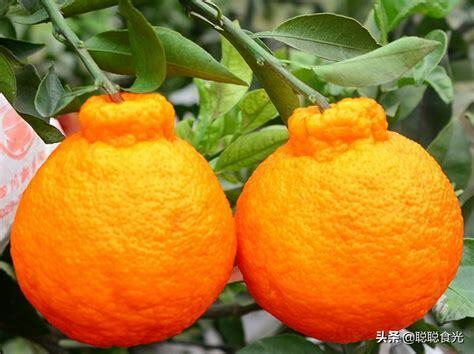orange: (9, 129, 240, 349), (235, 132, 465, 345)
